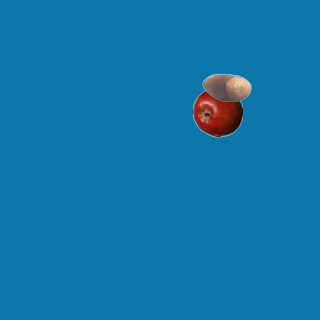Apple Braeburn: (192, 87, 242, 137)
Hazelnut: (201, 62, 251, 112)
